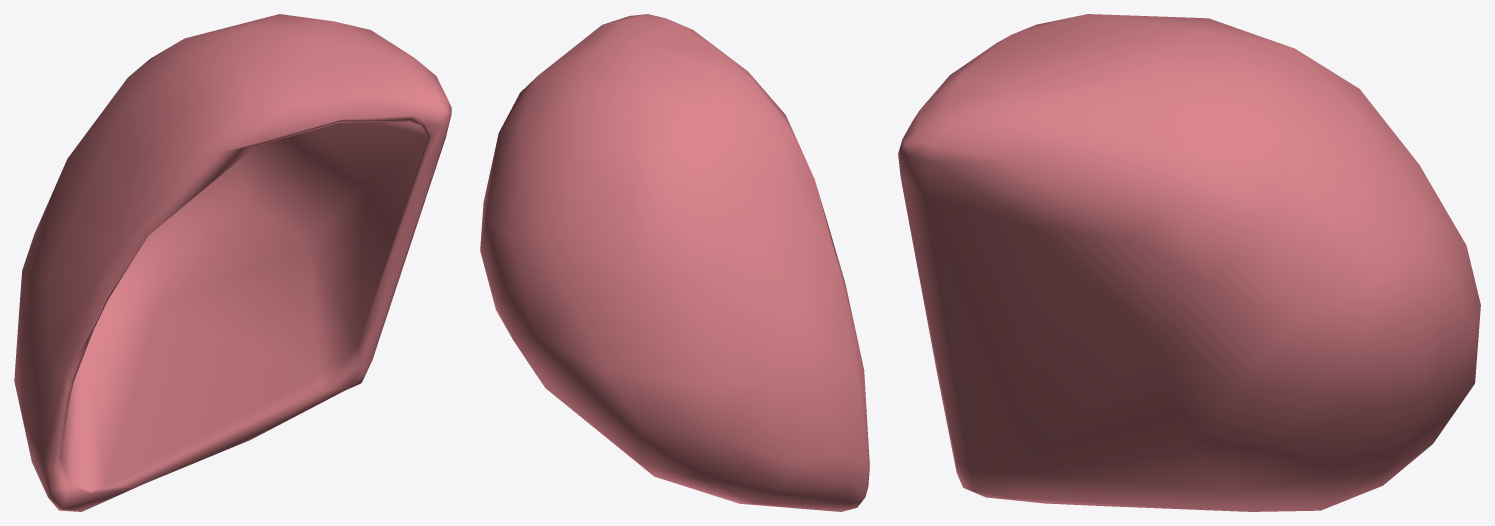
3 renders of one model, left to right at view 1: azimuth 30°, elevation 25°; view 2: azimuth 150°, elevation 25°; view 3: azimuth 270°, elevation 25°, orthographic. The views are drawn at different scales.
Parts seen in each view (by area): view 1: 主动脉瓣无冠瓣; view 2: 主动脉瓣无冠瓣; view 3: 主动脉瓣无冠瓣.
Part boxes in pixels (<box>): 主动脉瓣无冠瓣: <box>14,14,451,511</box>; 主动脉瓣无冠瓣: <box>480,14,869,511</box>; 主动脉瓣无冠瓣: <box>898,14,1480,511</box>.
Bounding box in the file's own units: 0.0255 × 0.0282 × 0.0243.
